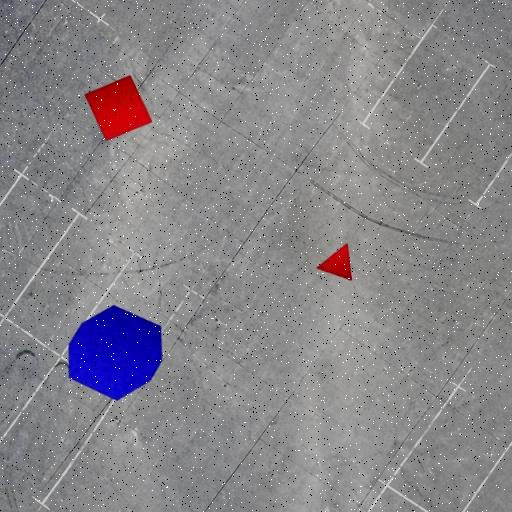RED_SQUARE: (84, 74, 153, 142)
